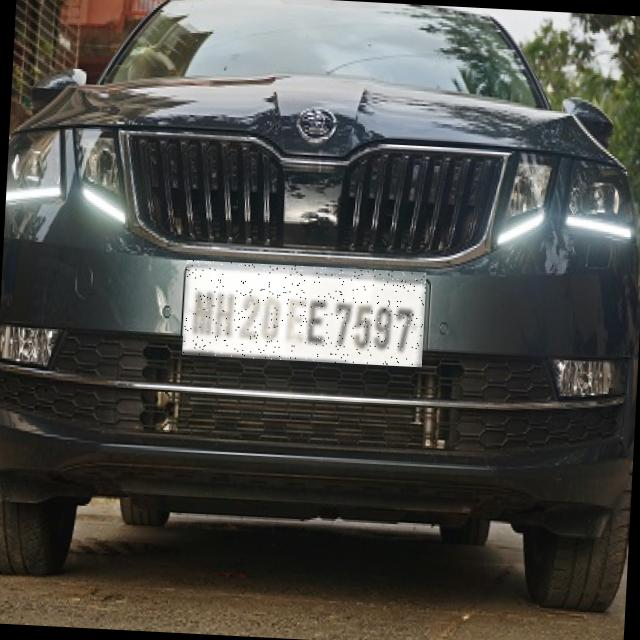Plate: (183, 261, 428, 368)
